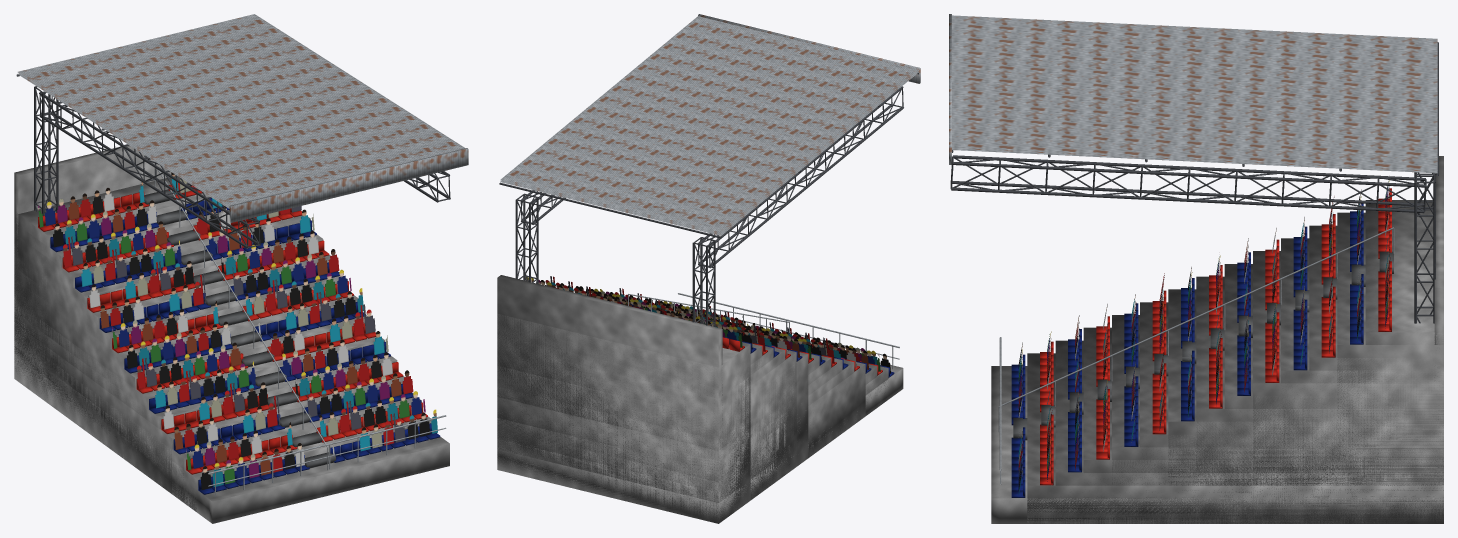
Rendered from bay_10m_large_roof_crowd.glb.
The picture shows the model from 3 angles, left to right: view 1: azimuth 30°, elevation 25°; view 2: azimuth 150°, elevation 25°; view 3: azimuth 270°, elevation 25°; orthographic projection. The views are drawn at different scales.
Visible parts, largest first — view 1: bay_10m_large_roof_crowd; view 2: bay_10m_large_roof_crowd; view 3: bay_10m_large_roof_crowd.
Part boxes in pixels (x1,y1,x2,y2): bay_10m_large_roof_crowd: (14, 14, 468, 523); bay_10m_large_roof_crowd: (497, 14, 920, 523); bay_10m_large_roof_crowd: (949, 14, 1443, 523).
Size of the model in its own units: 10 by 13.32 by 15.8.
Materials: 8 (8 with a texture image).
